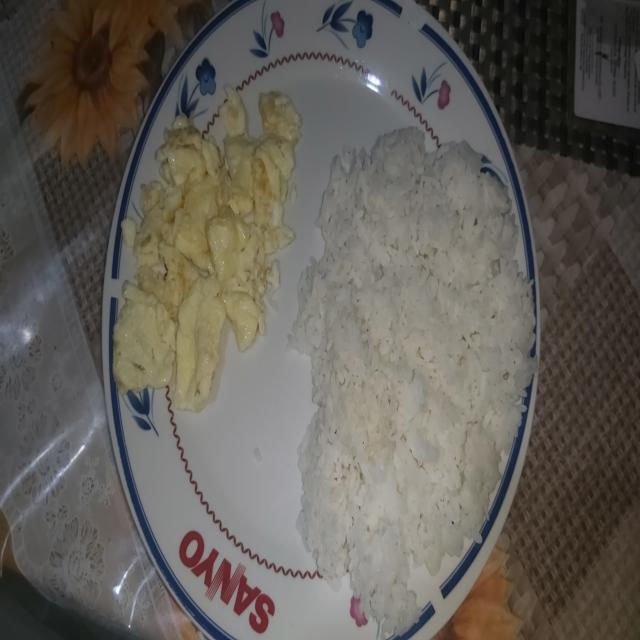Chicken -Chicken Inasal-: (314, 125, 534, 610)
